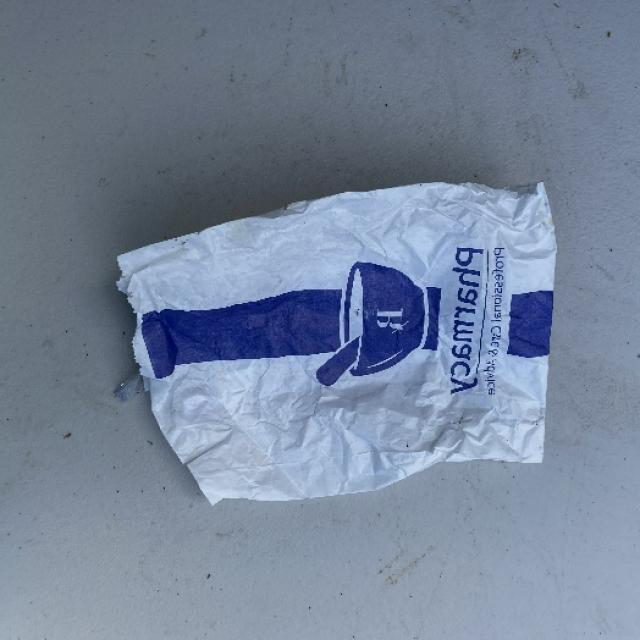inorganic: (110, 177, 554, 511)
